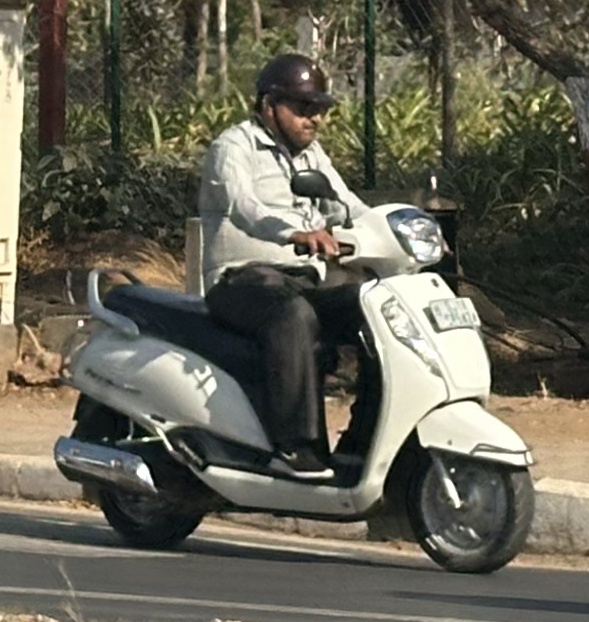BikeWithRider: (43, 43, 546, 580)
Helmet: (242, 46, 345, 154)
